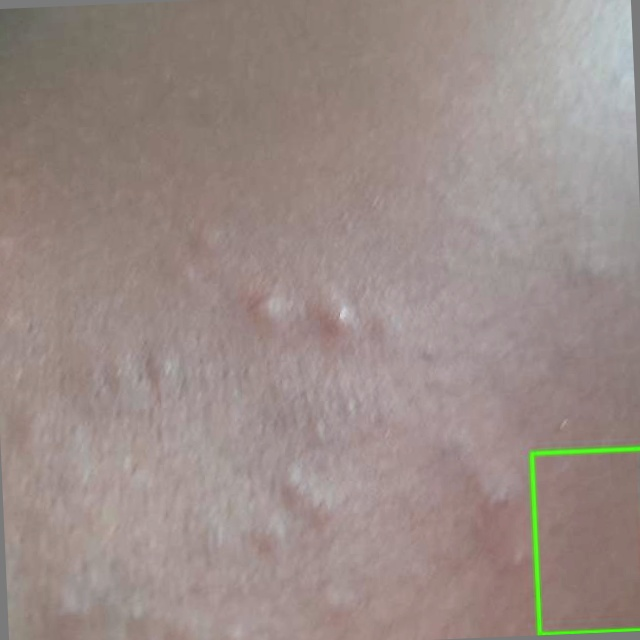Seborrheic Dermatitis: (532, 448, 639, 634)
